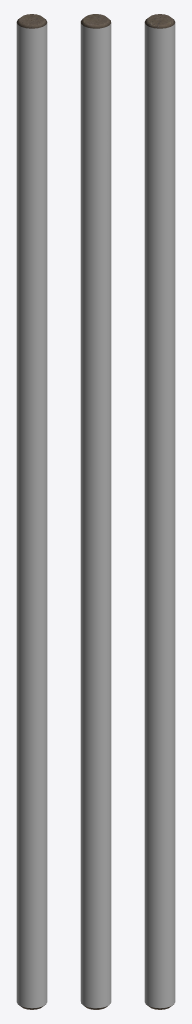
The model's file is SM_Column_17x17X600_01.fbx.
The picture shows the model from 3 angles, left to right: view 1: azimuth 90°, elevation 25°; view 2: azimuth 150°, elevation 25°; view 3: azimuth 270°, elevation 25°; orthographic projection.
Visible parts, largest first — view 1: SM_Column_17x17X600_01_LOD0; view 2: SM_Column_17x17X600_01_LOD0; view 3: SM_Column_17x17X600_01_LOD0.
Boxes of the visible parts, left/top/right/bottom form: SM_Column_17x17X600_01_LOD0: left=16, top=14, right=47, bottom=1009; SM_Column_17x17X600_01_LOD0: left=80, top=14, right=111, bottom=1009; SM_Column_17x17X600_01_LOD0: left=144, top=14, right=175, bottom=1009.
Bounding box in the file's own units: 17.02 × 17.02 × 600.
